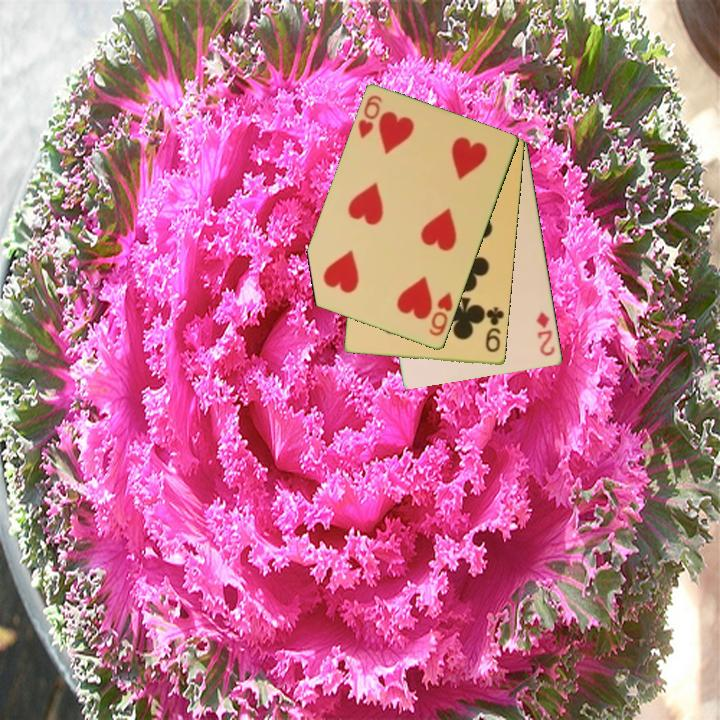2d: (533, 308, 558, 359)
6h: (425, 289, 456, 339), (355, 92, 385, 142)
9c: (482, 304, 507, 355)
